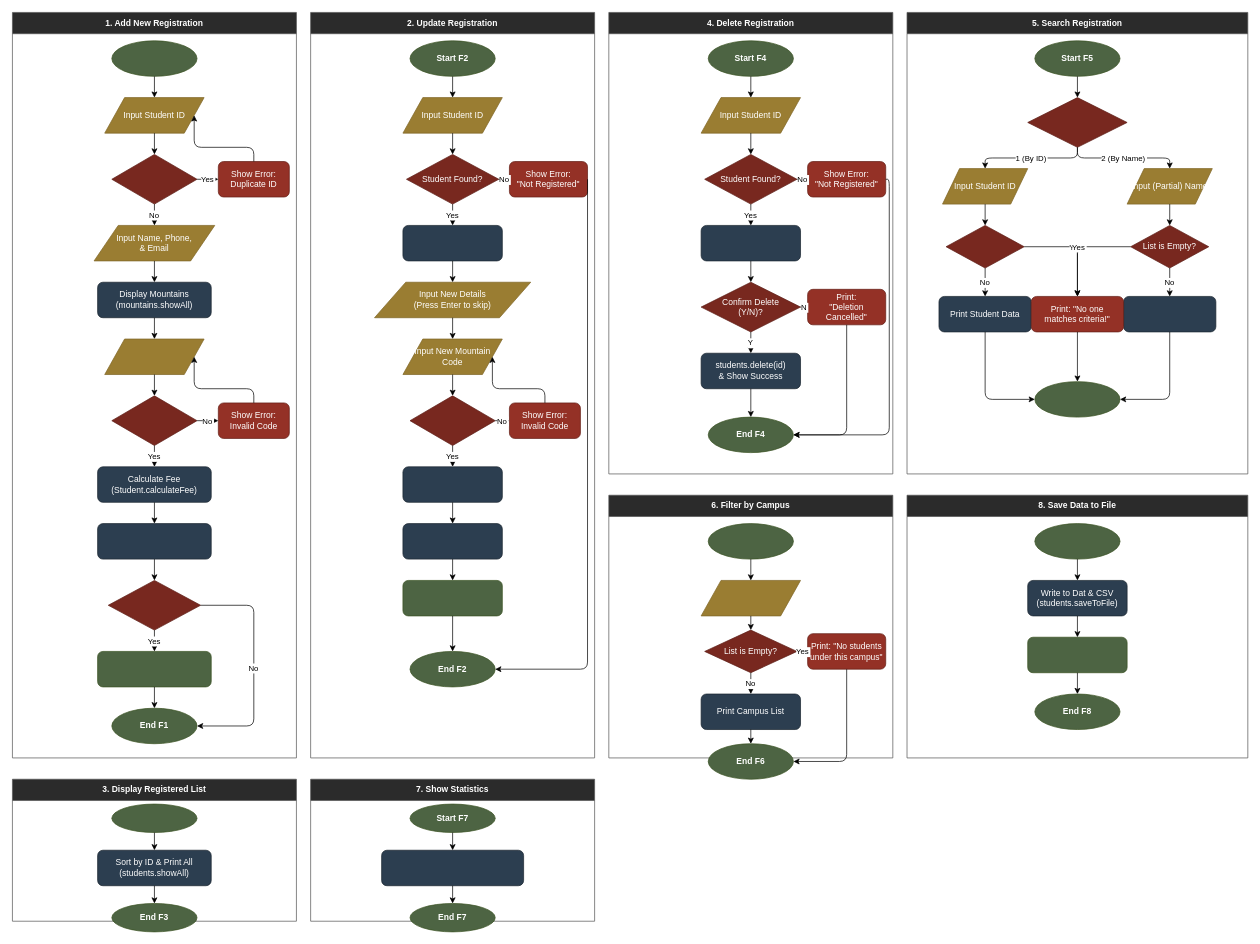
Image size: 1260x944. Some labels were removed from this diagram. Each missing label, with the centre of its shape:
"Aggregate By Mountain Peak (statisticalizeByMountainPeak)" belongs at (452,868).
"Apply New Fields & Recalculate Fee" belongs at (452,484).
"Create Student & students.add()" belongs at (154,541).
"Display Current Details" belongs at (452,243).
"End F5" belongs at (1077,399).
"ID Already Exists?" belongs at (154,179).
"Input Campus Code" belongs at (750,598).
"Input Mountain Code" belongs at (154,356).
"markUnsaved()" belongs at (452,541).
"Print Export Complete & Reset Saved State" belongs at (1077,655).
"Print Filtered List" belongs at (1169,314).
"Print Student Details" belongs at (750,243).
"Print Success & Updated Student" belongs at (452,598).
"Result is Null?" belongs at (984,246).
"Search Option?" belongs at (1077,122).
"Show Success Alert & Final Tuition Fee" belongs at (154,669).
"Start F1" belongs at (154,58).
"Start F3" belongs at (154,817).
"Start F6" belongs at (750,541).
"Start F8" belongs at (1077,541).
"Successfully Added?" belongs at (154,605).
"Valid Code or Empty?" belongs at (452,420).
"Valid Mountain Code?" belongs at (154,420).
